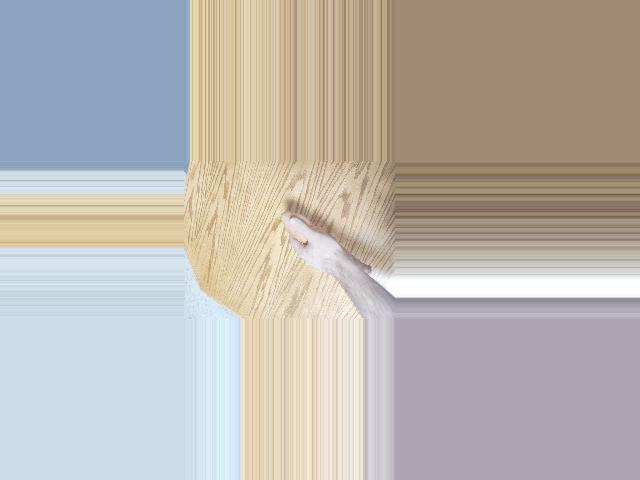sweet_potato: (279, 210, 370, 273)
